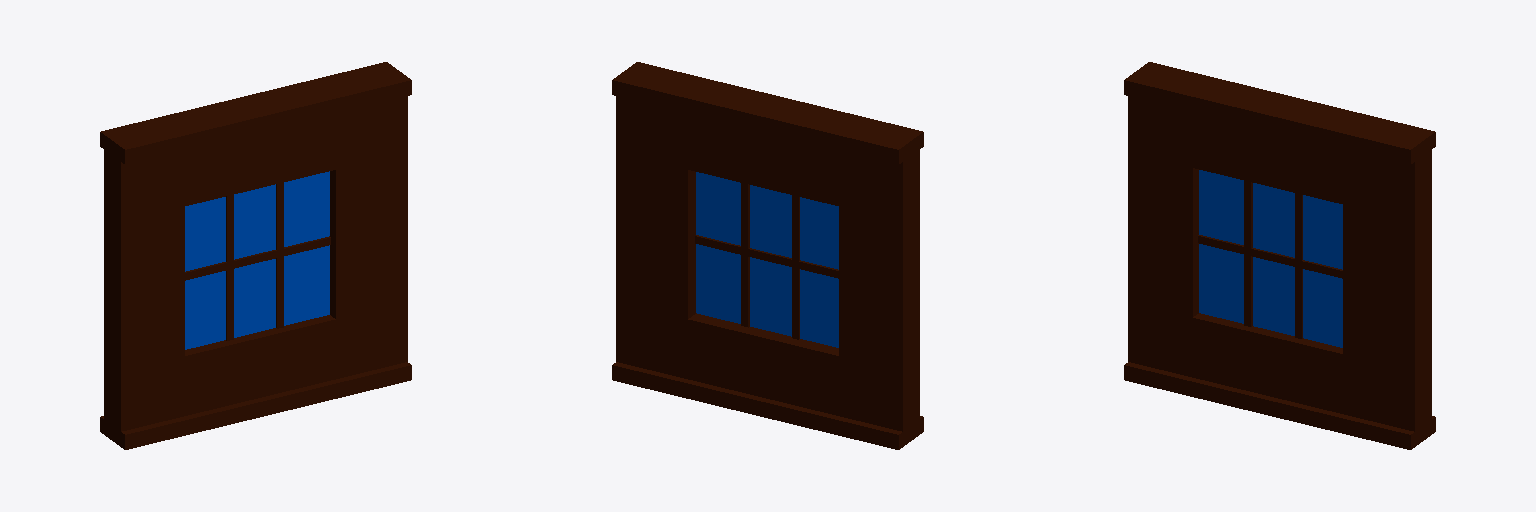
Rendered from 4x4_wall_window.obj.
3 renders of one model, left to right at view 1: azimuth 30°, elevation 25°; view 2: azimuth 150°, elevation 25°; view 3: azimuth 330°, elevation 25°, orthographic.
Parts seen in each view (by area): view 1: wall; view 2: wall; view 3: wall.
Boxes of the visible parts, x1=… form: wall: x1=100, y1=62, x2=411, y2=449; wall: x1=612, y1=62, x2=923, y2=449; wall: x1=1124, y1=62, x2=1435, y2=449.
Size of the model in its own units: 4 by 4 by 0.607.